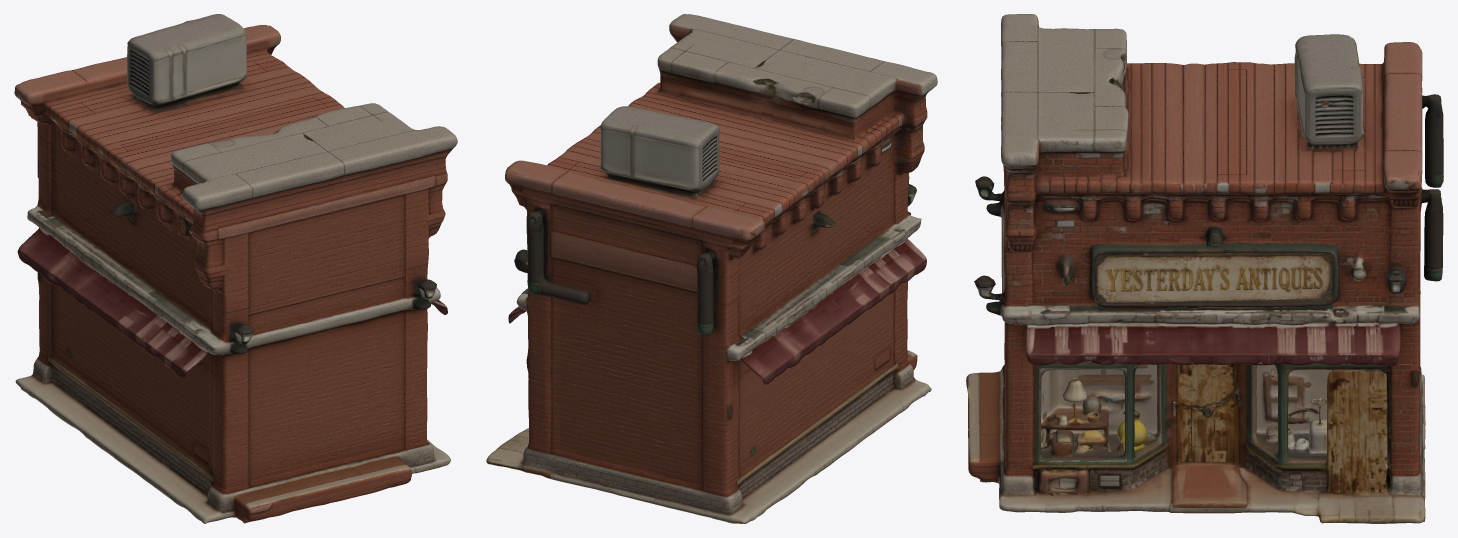
The model's file is antiques.glb.
3 renders of one model, left to right at view 1: azimuth 30°, elevation 25°; view 2: azimuth 150°, elevation 25°; view 3: azimuth 270°, elevation 25°, orthographic. The views are drawn at different scales.
Visible parts, largest first — view 1: tripo_node_f01c8a6b-86f3-4ef5-a9f4-fd1f6b11b705; view 2: tripo_node_f01c8a6b-86f3-4ef5-a9f4-fd1f6b11b705; view 3: tripo_node_f01c8a6b-86f3-4ef5-a9f4-fd1f6b11b705, Plane.
Boxes of the visible parts, x1=… form: tripo_node_f01c8a6b-86f3-4ef5-a9f4-fd1f6b11b705: x1=14, y1=14, x2=457, y2=523; tripo_node_f01c8a6b-86f3-4ef5-a9f4-fd1f6b11b705: x1=486, y1=14, x2=937, y2=523; tripo_node_f01c8a6b-86f3-4ef5-a9f4-fd1f6b11b705: x1=966, y1=14, x2=1443, y2=523; Plane: x1=1094, y1=252, x2=1331, y2=303.
Bounding box in the file's own units: 0.7412 × 0.8965 × 0.9964.
2 materials, 2 textured.
